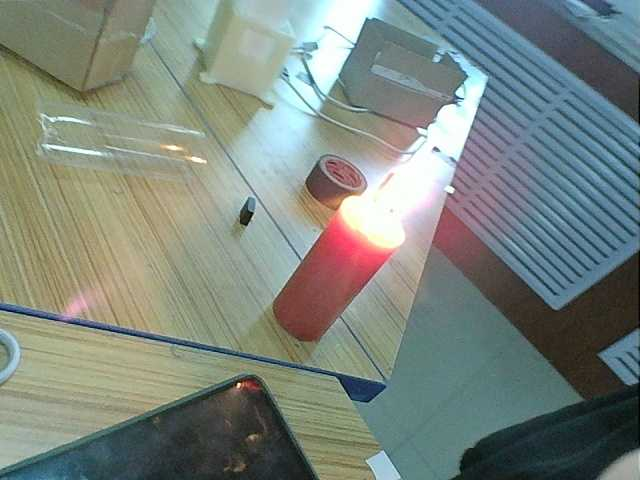candle: (270, 221, 391, 341)
fire: (352, 170, 428, 245)
